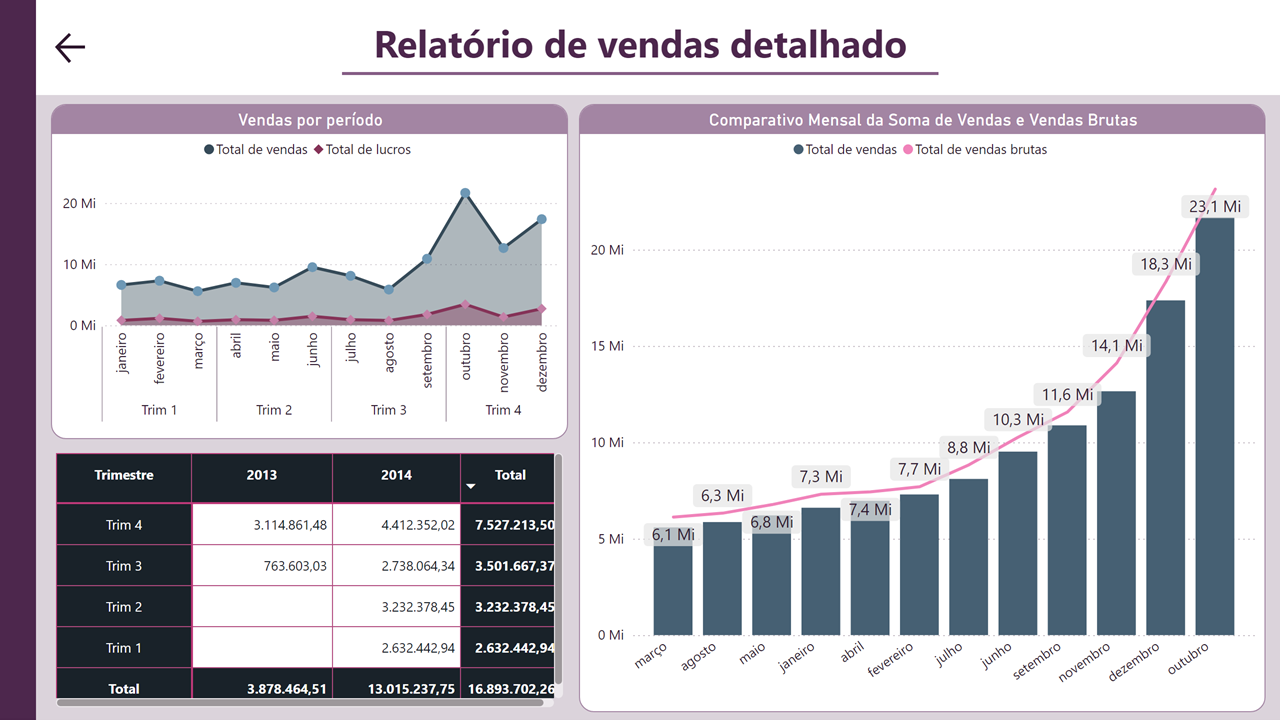

Layout of this report page (visuals, bound fields, positions):
{"tool":"powerbi","page":{"name":"Report","canvas":[1280,720],"ordinal":2},"visuals":[{"type":"shape","box":[0,0,1280,95],"z":0},{"type":"shape","box":[36,95,1244,625],"z":1000},{"type":"shape","box":[0,0,36,720],"z":2000},{"type":"textbox","title":"Relatório de vendas detalhado","box":[336.7,16.7,606.7,62.2],"z":3000},{"type":"lineClusteredColumnComboChart","title":"Comparativo Mensal da Soma de Vendas e Vendas Brutas","fields":{"Category":["financials.Date.Variation.Hierarquia de datas.Mês"],"Y":["Sum(financials. Sales)"],"Y2":["Sum(financials.Gross Sales)"]},"box":[578.9,104.4,686.7,607.8],"z":4000},{"type":"areaChart","title":"Vendas por período","fields":{"Category":["financials.Date.Variation.Hierarquia de datas.Trimestre","financials.Date.Variation.Hierarquia de datas.Mês"],"Y":["Sum(financials. Sales)","Sum(financials.Profit)"]},"box":[51,104,517,335],"z":5000},{"type":"pivotTable","fields":{"Rows":["financials.Date.Variation.Hierarquia de datas.Trimestre"],"Columns":["financials.Date.Variation.Hierarquia de datas.Ano"],"Values":["Sum(financials.Profit)"]},"box":[51,448,517,264],"z":6000},{"type":"actionButton","box":[51.1,27.8,74.4,40],"z":7000}]}

Visuals, with their boxes in screenshot pixels (x1, y1, x2, y2), scaled from the page's 1280x720 canvas onto the 1280x720 screenshot:
shape: bbox=[0, 0, 1279, 95]
shape: bbox=[36, 95, 1279, 719]
shape: bbox=[0, 0, 36, 719]
"Relatório de vendas detalhado" textbox: bbox=[337, 17, 943, 79]
"Comparativo Mensal da Soma de Vendas e Vendas Brutas" lineClusteredColumnComboChart: bbox=[579, 104, 1266, 712]
"Vendas por período" areaChart: bbox=[51, 104, 568, 439]
pivotTable - financials.Date.Variation.Hierarquia de datas.Trimestre x financials.Date.Variation.Hierarquia de datas.Ano: bbox=[51, 448, 568, 712]
actionButton: bbox=[51, 28, 126, 68]
